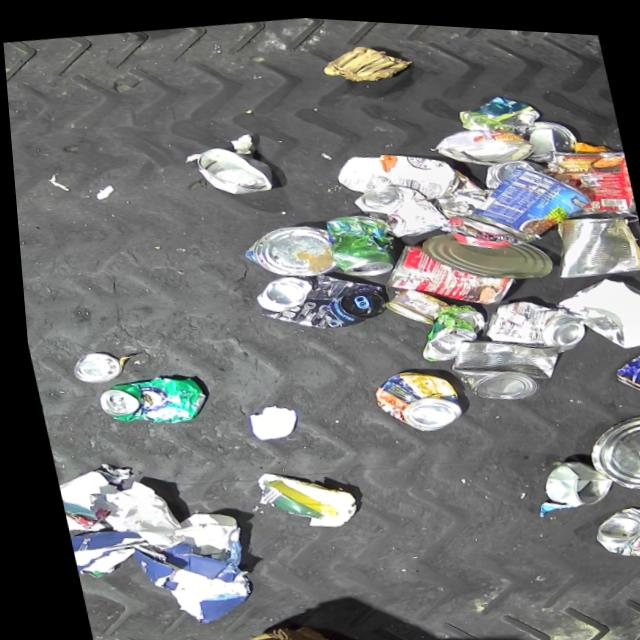can: (457, 149, 600, 249), (375, 224, 518, 313), (246, 257, 386, 336), (439, 320, 566, 403), (417, 213, 553, 286), (474, 284, 586, 356), (87, 366, 205, 432), (544, 134, 635, 216), (542, 200, 640, 276), (363, 358, 460, 433), (348, 172, 449, 241), (235, 213, 335, 282), (573, 399, 640, 492), (429, 114, 538, 169), (320, 206, 398, 279), (407, 294, 489, 361), (187, 137, 273, 199), (534, 447, 611, 505), (580, 489, 640, 558), (378, 277, 449, 326), (517, 109, 581, 159), (600, 325, 640, 392), (478, 148, 548, 186), (63, 345, 119, 385)
